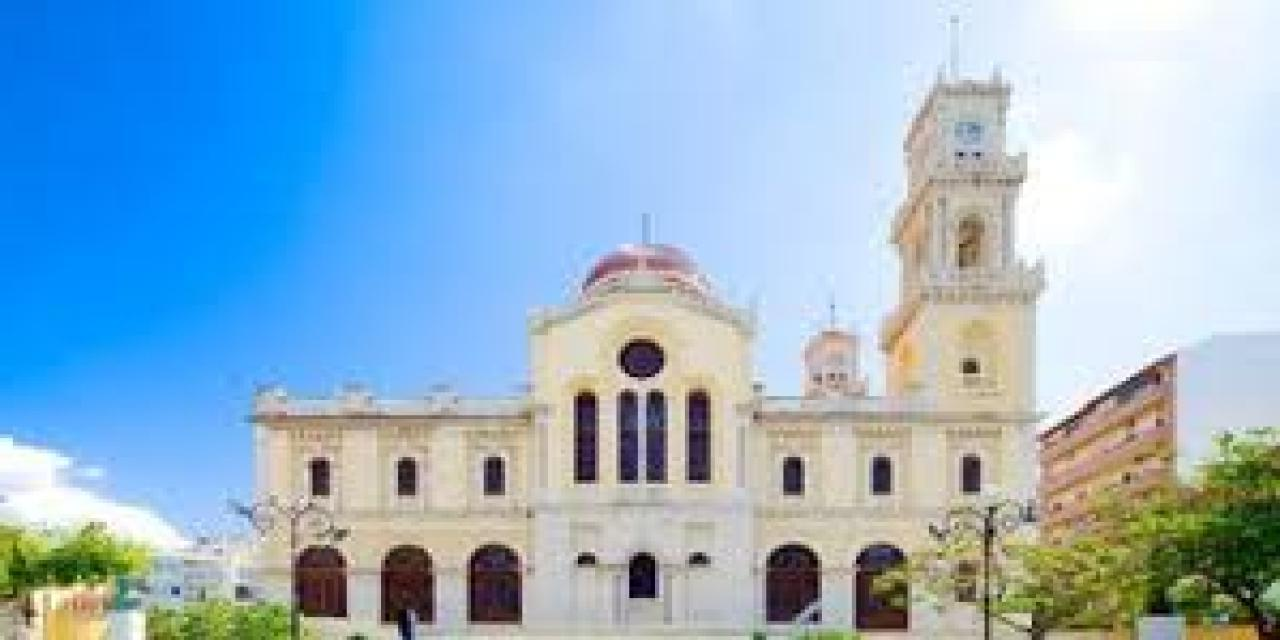Agios Minas: (239, 15, 1052, 640)
